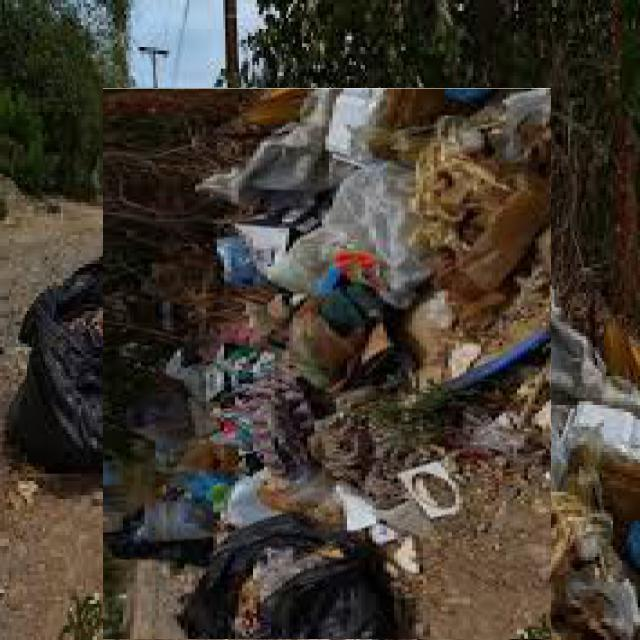Trashbag: (176, 509, 384, 640), (15, 280, 114, 470)
